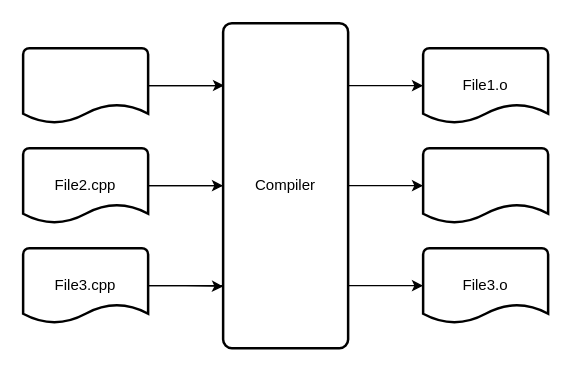
Some shapes in this 570 by 370 pixel diagram are drawn without their labels. Each missing label, with the centre of its shape:
"File1.cpp" goes at (x=85, y=85).
"File2.o" goes at (x=485, y=185).
